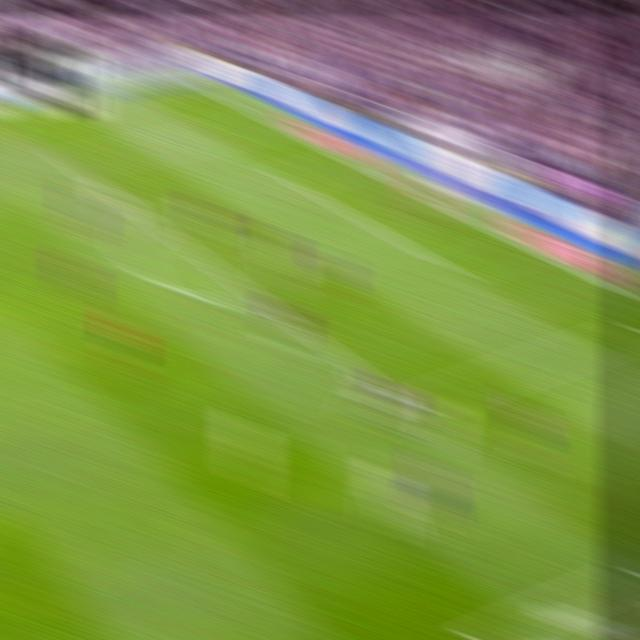bigarea_bottom_inner: (394, 392, 424, 421)
bigarea_top_inner: (55, 152, 82, 173)
bottom_arc_area_intersection: (253, 291, 281, 316)
corner: (174, 71, 204, 89)
smallarea_top_inner: (275, 168, 301, 188)
top_arc_area_intersection: (135, 207, 164, 232)
